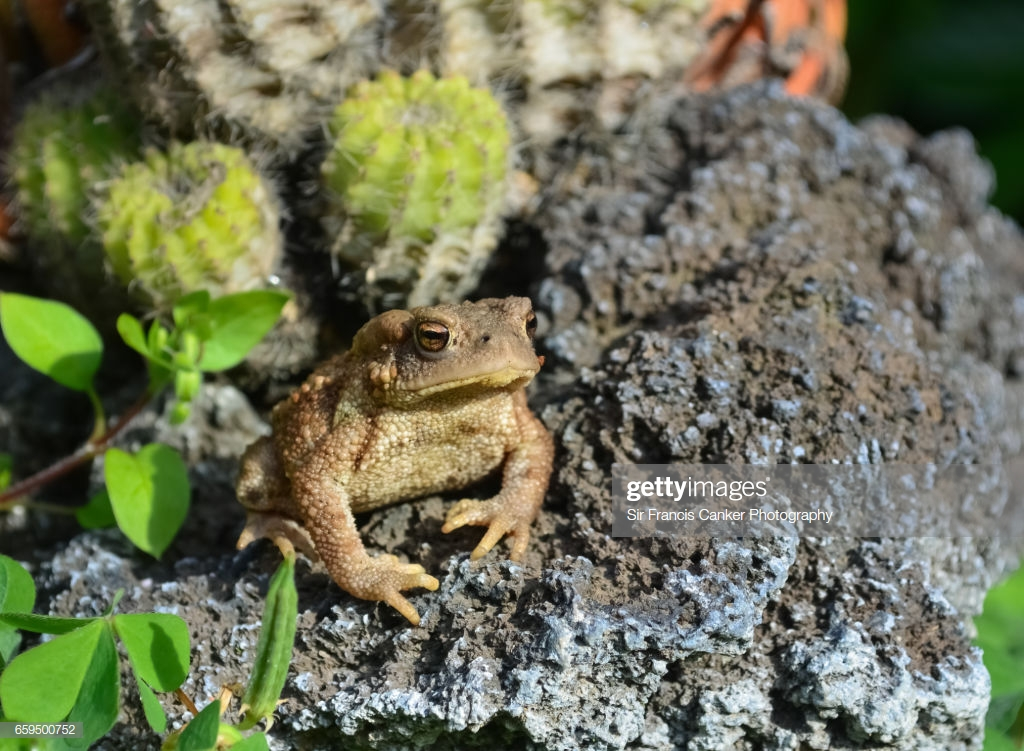volcanic_rock: (598, 149, 982, 442), (446, 570, 798, 751)
